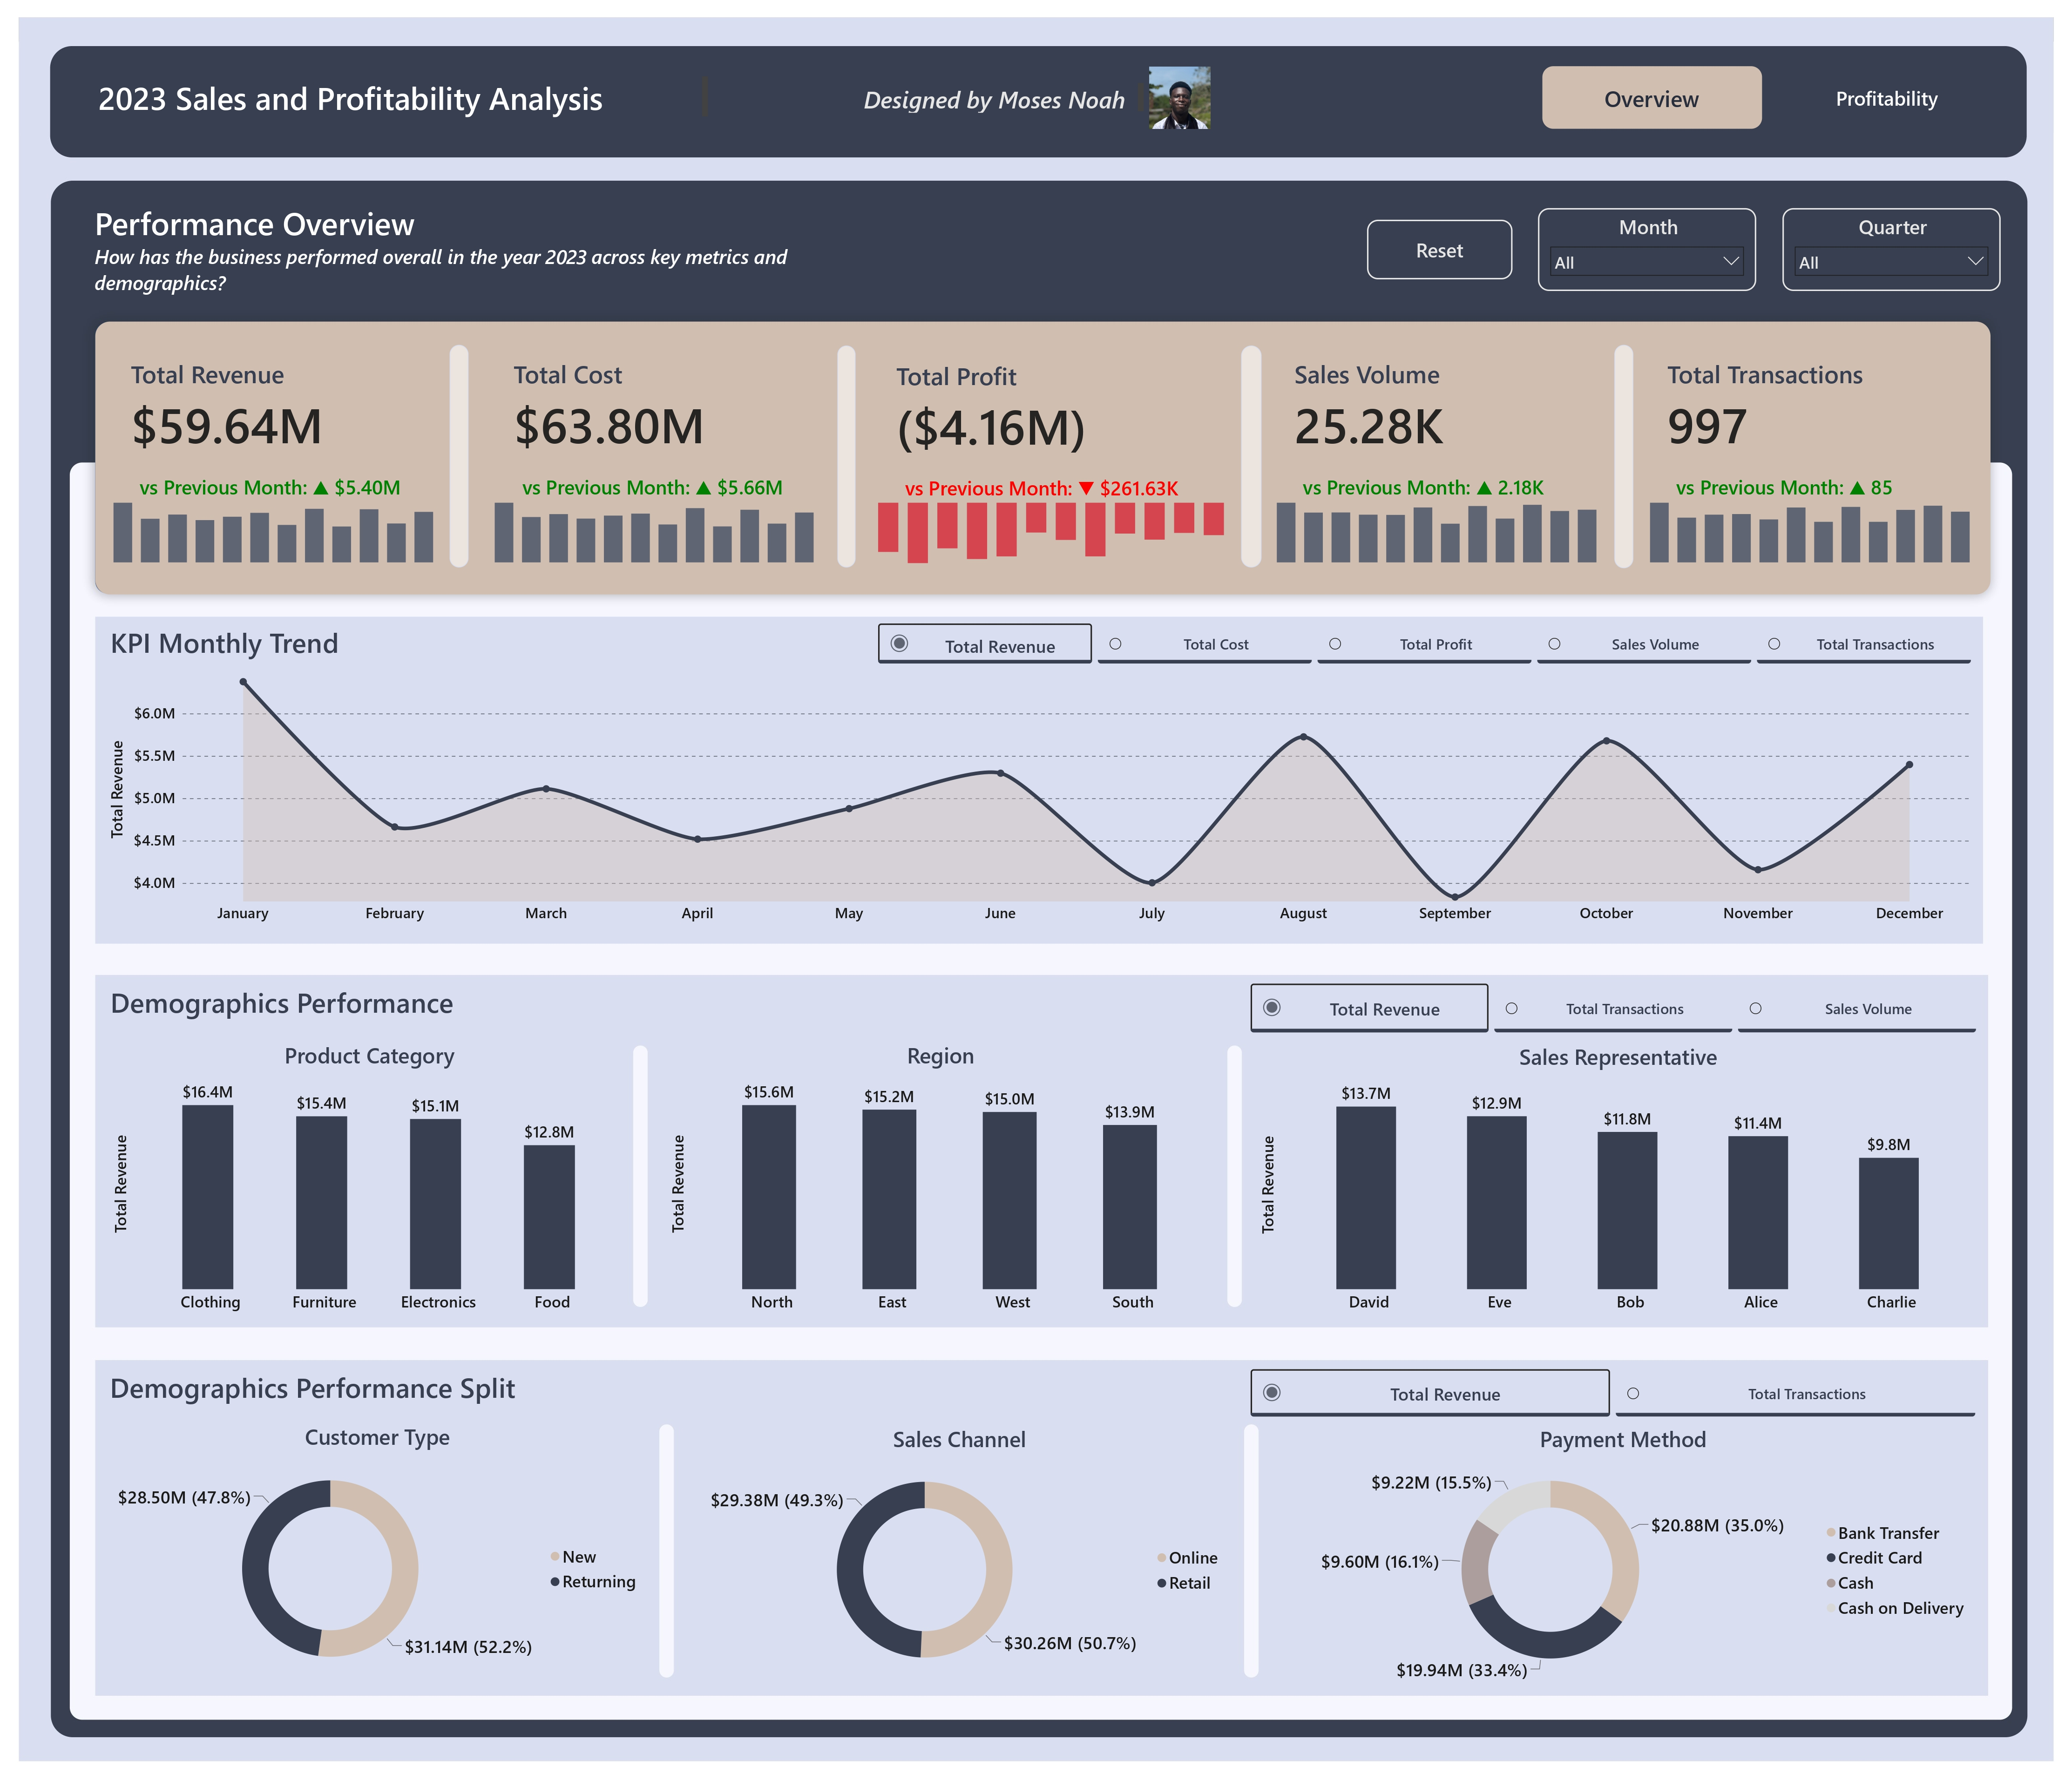

The dashboard page shown, as its layout file describes it:
{"tool":"powerbi","page":{"name":"Overview","canvas":[2800,2400],"ordinal":0},"visuals":[{"type":"textbox","box":[1157.5,84.5,395,51],"z":0,"group":"g3"},{"type":"group","id":"g1","title":"Group 1","box":[106.6,418.4,2605.3,375],"z":0},{"type":"shape","box":[106.6,418.4,2605.3,375],"z":0,"group":"g1"},{"type":"image","box":[1552.5,67.5,90,85],"z":1000,"group":"g3"},{"type":"shape","box":[593.9,449.9,25.6,306.4],"z":1000,"group":"g1"},{"type":"cardVisual","fields":{"Data":["_Measures.Total Revenue"]},"box":[127,450,450,305.3],"z":1000},{"type":"shape","box":[1126.6,450.9,25,305],"z":2000,"group":"g1"},{"type":"columnChart","fields":{"Y":["_Measures.Total Revenue"],"Category":["Calendar.Month"]},"box":[127,652.6,450,102.6],"z":2000},{"type":"shape","box":[2194.7,450.3,26,306.7],"z":3000},{"type":"shape","box":[1681.6,450.9,27.5,305],"z":3000,"group":"g1"},{"type":"cardVisual","fields":{"Data":["_Measures.Total Cost"]},"box":[652.6,450,450,305.3],"z":4000},{"type":"cardVisual","fields":{"Data":["_Measures.Effective Profit"]},"box":[1178.5,452,484.9,304],"z":5000},{"type":"textbox","box":[122.5,827.5,417.5,62.5],"z":6000},{"type":"cardVisual","fields":{"Data":["_Measures.Total Quantity Sold"]},"box":[1726.3,450,450,305.3],"z":7000},{"type":"advancedSlicerVisual","fields":{"Values":["KPI Parameters.KPI Parameters"]},"box":[1177.5,827.5,1512.5,65],"z":8000},{"type":"cardVisual","fields":{"Data":["_Measures.Total Transactions"]},"box":[2239.5,450,450,305.3],"z":9000},{"type":"columnChart","fields":{"Y":["_Measures.Total Quantity Sold"],"Category":["Calendar.Month"]},"box":[1726.3,652.6,450,102.6],"z":10000},{"type":"columnChart","fields":{"Y":["_Measures.Total Transactions"],"Category":["Calendar.Month"]},"box":[2239.5,652.6,450,102.6],"z":11000},{"type":"textbox","box":[122.5,1322.5,717.5,77.5],"z":12000},{"type":"columnChart","fields":{"Y":["_Measures.Total Cost"],"Category":["Calendar.Month"]},"box":[651.1,653.2,448.9,102.1],"z":13000},{"type":"advancedSlicerVisual","fields":{"Values":["Demographics Parameter.Demographics Parameter"]},"box":[1690,1322.5,1007.5,77.5],"z":14000},{"type":"columnChart","fields":{"Y":["_Measures.Effective Profit"],"Category":["Calendar.Month"]},"box":[1178,653.4,486,102.5],"z":15000},{"type":"columnChart","title":"Product Category","fields":{"Y":["_Measures.Total Revenue"],"Category":["Product_Dim.Product_Category"]},"box":[126,1406,716,384],"z":16000},{"type":"columnChart","title":"Region","fields":{"Y":["_Measures.Total Revenue"],"Category":["Region_Dim.Region"]},"box":[892,1406,754,384],"z":17000},{"type":"columnChart","title":"Sales Representative ","fields":{"Y":["_Measures.Total Revenue"],"Category":["Region_Dim.Sales_Rep"]},"box":[1702.5,1407.5,995,382.5],"z":18000},{"type":"advancedSlicerVisual","fields":{"Values":["Demographics Parameter 2.Demographics Parameter 2"]},"box":[1690,1852.5,1007.5,75],"z":19000},{"type":"textbox","box":[122,1852,804,78],"z":20000},{"type":"slicer","title":"Month","fields":{"Values":["Calendar.Month Name"]},"box":[2090.1,262.4,300,114],"z":21000},{"type":"slicer","title":"Quarter","fields":{"Values":["Calendar.Quarter"]},"box":[2426.1,262.4,300,114],"z":22000},{"type":"shape","box":[2096,67,302,86],"z":23000,"group":"g2"},{"type":"actionButton","box":[1855,277.5,200,82.5],"z":23000},{"type":"group","id":"g2","title":"Group 7","box":[2090,67,636,86],"z":24000},{"type":"pageNavigator","box":[2090,67,636,86],"z":25000,"group":"g2"},{"type":"actionButton","box":[1157.5,67.5,485,85],"z":25000,"group":"g3"},{"type":"textbox","box":[106,76,848,66],"z":25000},{"type":"group","id":"g3","title":"Group 8","box":[1157.5,67.5,485,85],"z":26000},{"type":"textbox","box":[101.2,247.5,1000,172.5],"z":27000},{"type":"lineChart","fields":{"Y":["_Measures.Total Revenue"],"Category":["Calendar.Month"]},"box":[121.3,893.6,2568.1,361.7],"z":28000},{"type":"donutChart","title":"Customer Type","fields":{"Y":["_Measures.Total Revenue"],"Category":["Fact_Table.Customer_Type"]},"box":[125,1930,740,365],"z":29000},{"type":"donutChart","title":"Sales Channel ","fields":{"Y":["_Measures.Total Revenue"],"Category":["Fact_Table.Sales_Channel"]},"box":[925,1932.5,740,362.5],"z":30000},{"type":"donutChart","title":"Payment Method","fields":{"Y":["_Measures.Total Revenue"],"Category":["Fact_Table.Payment Method"]},"box":[1725,1932.5,965,362.5],"z":31000}]}

Visuals, with their boxes in screenshot pixels (x1, y1, x2, y2), scaled from the page's 2800x2400 canvas onto the 2072x1781 screenshot:
textbox: (857,63,1149,101)
"Group 1" group: (79,311,2007,589)
shape: (79,311,2007,589)
image: (1149,50,1215,113)
shape: (440,334,459,561)
cardVisual - _Measures.Total Revenue: (94,334,427,561)
shape: (833,335,852,561)
columnChart - _Measures.Total Revenue x Calendar.Month: (94,484,427,561)
shape: (1624,334,1643,562)
shape: (1245,335,1265,561)
cardVisual - _Measures.Total Cost: (483,334,816,561)
cardVisual - _Measures.Effective Profit: (872,335,1231,561)
textbox: (91,614,400,660)
cardVisual - _Measures.Total Quantity Sold: (1278,334,1611,561)
advancedSlicerVisual - KPI Parameters.KPI Parameters: (871,614,1991,662)
cardVisual - _Measures.Total Transactions: (1657,334,1990,561)
columnChart - _Measures.Total Quantity Sold x Calendar.Month: (1278,484,1611,561)
columnChart - _Measures.Total Transactions x Calendar.Month: (1657,484,1990,561)
textbox: (91,982,622,1039)
columnChart - _Measures.Total Cost x Calendar.Month: (482,485,814,561)
advancedSlicerVisual - Demographics Parameter.Demographics Parameter: (1251,982,1996,1039)
columnChart - _Measures.Effective Profit x Calendar.Month: (872,485,1232,561)
"Product Category" columnChart: (93,1043,623,1328)
"Region" columnChart: (660,1043,1218,1328)
"Sales Representative " columnChart: (1260,1044,1996,1328)
advancedSlicerVisual - Demographics Parameter 2.Demographics Parameter 2: (1251,1375,1996,1430)
textbox: (90,1375,685,1432)
"Month" slicer: (1547,195,1769,279)
"Quarter" slicer: (1795,195,2018,279)
shape: (1551,50,1774,114)
actionButton: (1373,206,1521,267)
"Group 7" group: (1547,50,2017,114)
pageNavigator: (1547,50,2017,114)
actionButton: (857,50,1215,113)
textbox: (78,56,706,105)
"Group 8" group: (857,50,1215,113)
textbox: (75,183,815,312)
lineChart - _Measures.Total Revenue x Calendar.Month: (90,663,1990,932)
"Customer Type" donutChart: (93,1432,640,1703)
"Sales Channel " donutChart: (684,1434,1232,1703)
"Payment Method" donutChart: (1277,1434,1991,1703)
